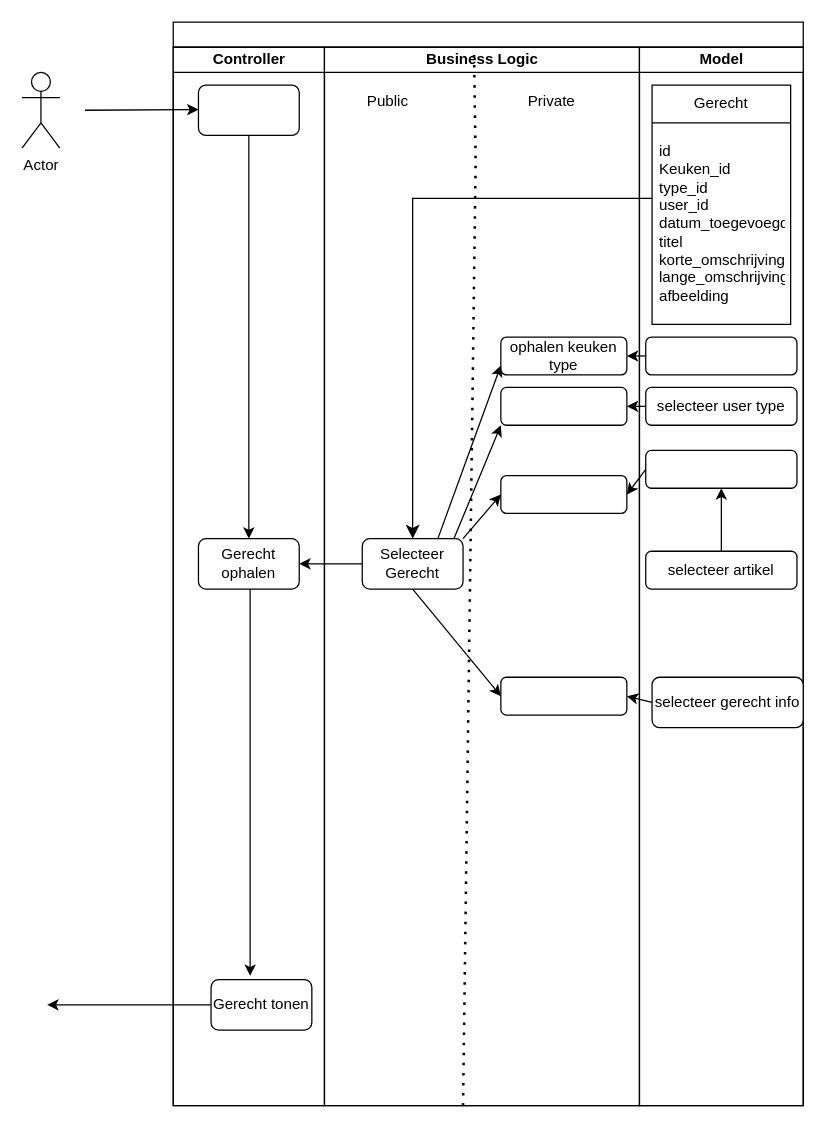
The diagram is 825 pixels wide and 1130 high, and some of its shapes have lost their labels. Each missing label, with the centre of its shape:
"Initialisatie" goes at pixel 248 109.
"ophalen gerecht info" goes at pixel 563 695.
"ophalen ingredient" goes at pixel 563 493.
"ophalen user type" goes at pixel 563 405.
"selecteer ingredient" goes at pixel 720 468.
"selecteer keuken type" goes at pixel 720 355.
